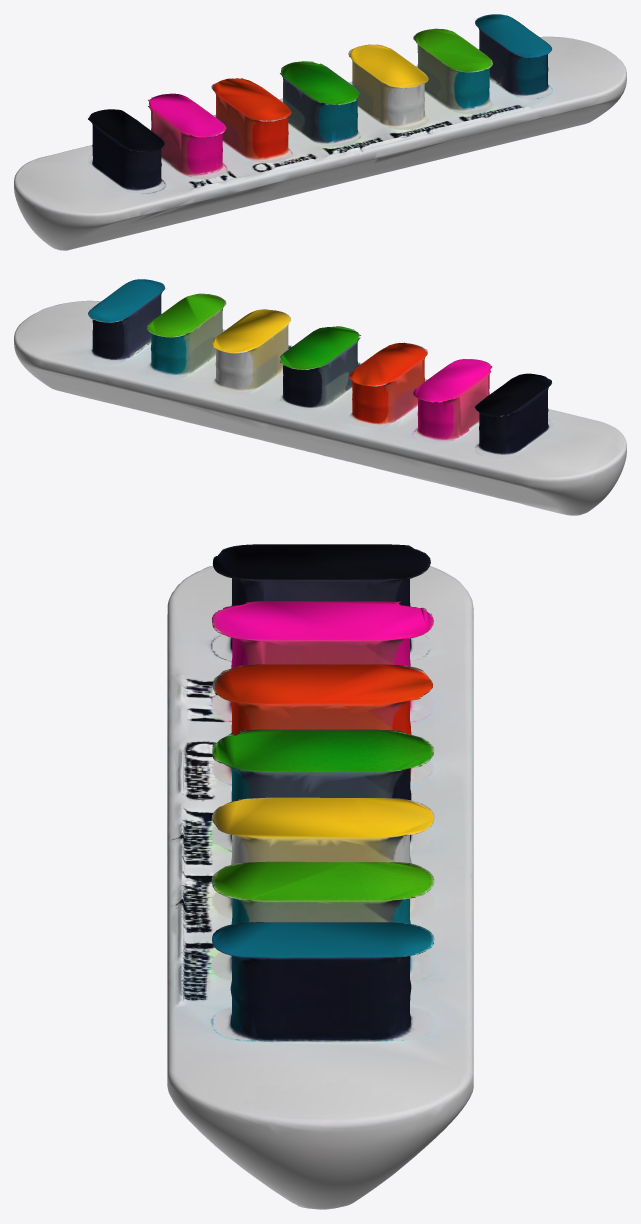
The model's file is vet_equip_urine_dipstick.glb.
The picture shows the model from 3 angles, top to bottom: view 1: azimuth 30°, elevation 25°; view 2: azimuth 150°, elevation 25°; view 3: azimuth 270°, elevation 25°; orthographic projection. The views are drawn at different scales.
Parts seen in each view (by area): view 1: model; view 2: model; view 3: model.
Part boxes in pixels (x1=…): model: x1=14, y1=14, x2=626, y2=250; model: x1=14, y1=279, x2=626, y2=515; model: x1=167, y1=544, x2=473, y2=1209.
Bounding box in the file's own units: 1.9 × 0.3061 × 0.4285.
1 material, 1 textured.
